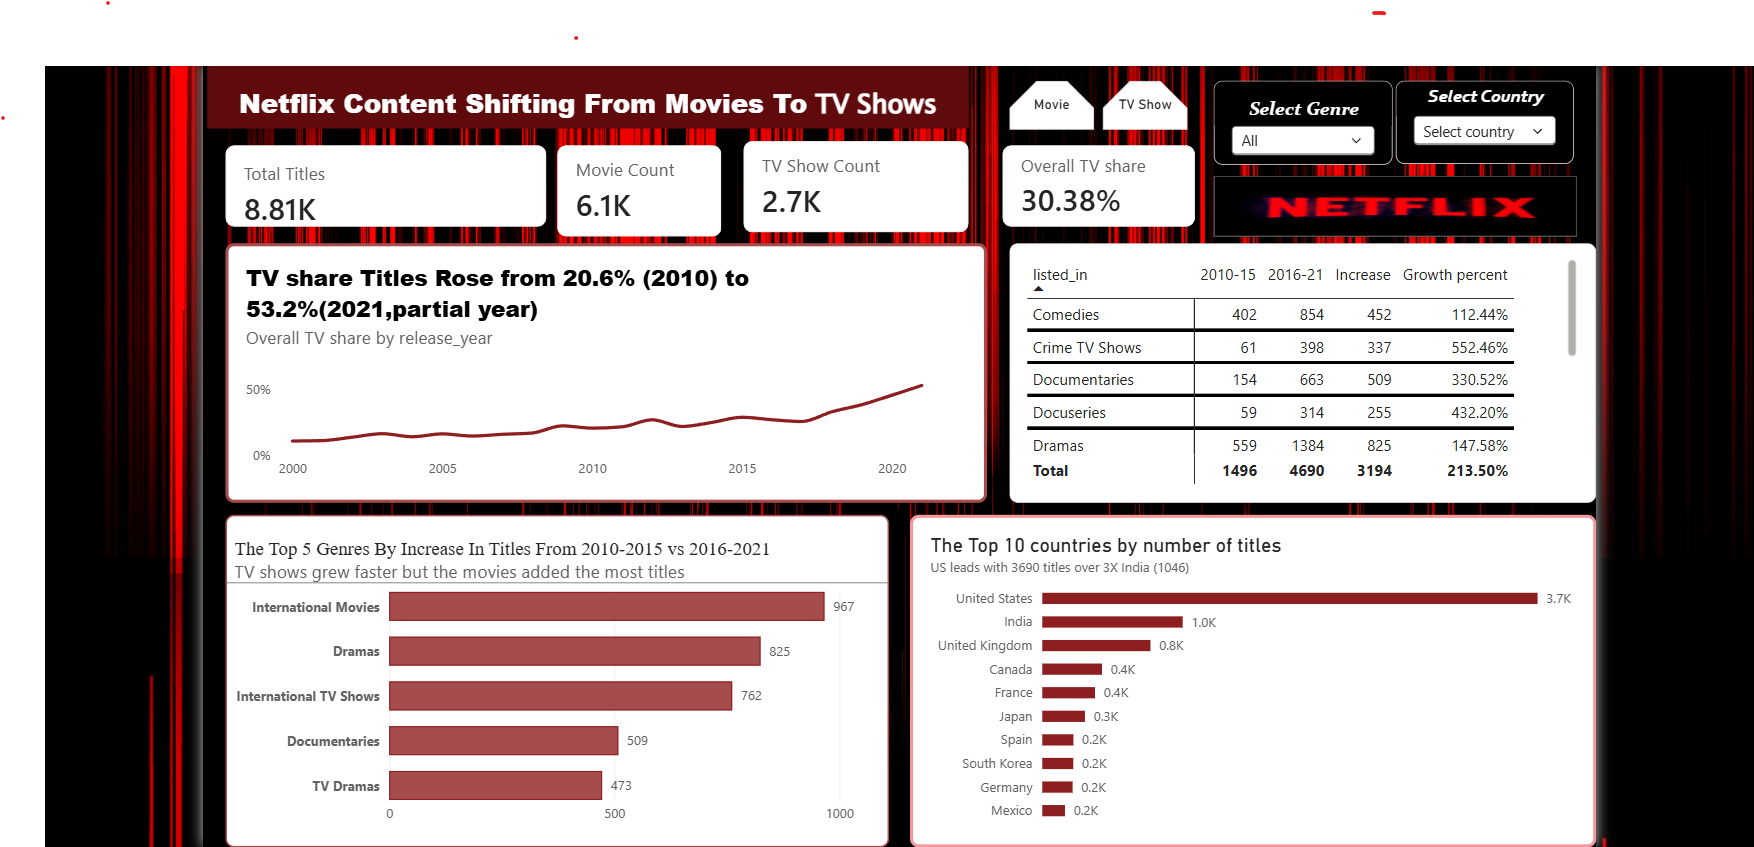

The dashboard page shown, as its layout file describes it:
{"tool":"powerbi","page":{"name":"Page 1","canvas":[1280,720],"ordinal":0},"visuals":[{"type":"textbox","box":[3.9,0,700,59.2],"z":0},{"type":"cardVisual","fields":{"Data":["country_cleaned1.Total Titles "]},"box":[20,74.9,295,75],"z":1000},{"type":"lineChart","title":"TV share Titles Rose from 20.6% (2010) to 53.2%(2021,partial year)","fields":{"Category":["netflix_titles_cleaned2 (2).release_year"],"Y":["netflix_titles_cleaned2 (2).TV Share percent"]},"box":[20.5,165.1,700,238.8],"z":2000},{"type":"clusteredBarChart","title":"The Top 5 Genres By Increase In Titles From 2010-2015 vs 2016-2021","fields":{"Category":["growth _percent.listed_in"],"Y":["growth _percent.Increase"]},"box":[20.5,414.8,610,305.7],"z":3000},{"type":"pivotTable","fields":{"Rows":["growth _percent.listed_in"],"Values":["growth _percent.Titles_A","growth _percent.Titles_B","growth _percent.Increase","growth _percent.Growth percent"]},"box":[741,165.1,539,238.8],"z":4000},{"type":"clusteredBarChart","title":"The Top 10 countries by number of titles","fields":{"Category":["country_cleaned1.country"],"Y":["country_cleaned1.country_titles"]},"box":[649.6,414.8,630.4,305.7],"z":5000},{"type":"cardVisual","fields":{"Data":["netflix_titles_cleaned2 (2).Movie Count"]},"box":[326.1,75.1,151.2,84.8],"z":6000},{"type":"cardVisual","fields":{"Data":["netflix_titles_cleaned2 (2).TV Show Count"]},"box":[496.7,71,207.7,84.8],"z":7000},{"type":"cardVisual","fields":{"Data":["netflix_titles_cleaned2 (2).TV Share percent","netflix_titles_cleaned2 (2).TV Share percent","netflix_titles_cleaned2 (2).TV Share percent"]},"box":[734.7,75.1,177.4,75.1],"z":8000},{"type":"advancedSlicerVisual","fields":{"Values":["netflix_titles_cleaned2 (2).type"]},"box":[741.5,15,165,45],"z":9000},{"type":"listSlicer","title":"Select Genre","fields":{"Values":["one_genre_perRow (2).listed_in"]},"box":[928.6,15,164.6,77],"z":10000},{"type":"listSlicer","title":"Select Country","fields":{"Values":["country_cleaned1.country"]},"box":[1096.6,15,163.9,76.5],"z":11000},{"type":"map","fields":{"Category":["netflix_titles_cleaned2 (2).country"]},"box":[1639,117,222,367],"z":12000},{"type":"image","box":[928.6,102.4,333.2,56],"z":13000}]}

Visuals, with their boxes on the page's 1280x720 design canvas (x1, y1, x2, y2). These are canvas units, not pixel positions in the 1754x847 screenshot, which may show the page scaled, cropped or inside an application window:
textbox: bbox(4, 0, 704, 59)
cardVisual - country_cleaned1.Total Titles : bbox(20, 75, 315, 150)
"TV share Titles Rose from 20.6% (2010) to 53.2%(2021,partial year)" lineChart: bbox(20, 165, 720, 404)
"The Top 5 Genres By Increase In Titles From 2010-2015 vs 2016-2021" clusteredBarChart: bbox(20, 415, 630, 720)
pivotTable - growth _percent.listed_in x growth _percent.Titles_A: bbox(741, 165, 1280, 404)
"The Top 10 countries by number of titles" clusteredBarChart: bbox(650, 415, 1280, 720)
cardVisual - netflix_titles_cleaned2 (2).Movie Count: bbox(326, 75, 477, 160)
cardVisual - netflix_titles_cleaned2 (2).TV Show Count: bbox(497, 71, 704, 156)
cardVisual - netflix_titles_cleaned2 (2).TV Share percent x netflix_titles_cleaned2 (2).TV Share percent: bbox(735, 75, 912, 150)
advancedSlicerVisual - netflix_titles_cleaned2 (2).type: bbox(742, 15, 906, 60)
"Select Genre" listSlicer: bbox(929, 15, 1093, 92)
"Select Country" listSlicer: bbox(1097, 15, 1260, 92)
map - netflix_titles_cleaned2 (2).country: bbox(1639, 117, 1861, 484)
image: bbox(929, 102, 1262, 158)
